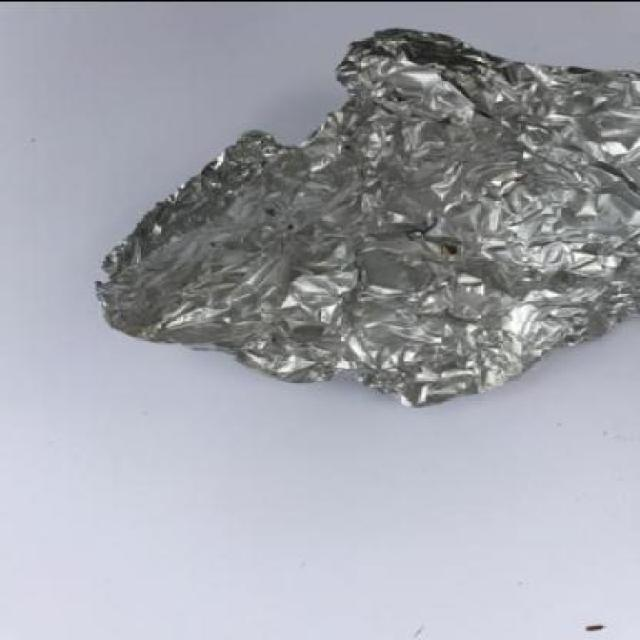METAL: (91, 28, 638, 409)
